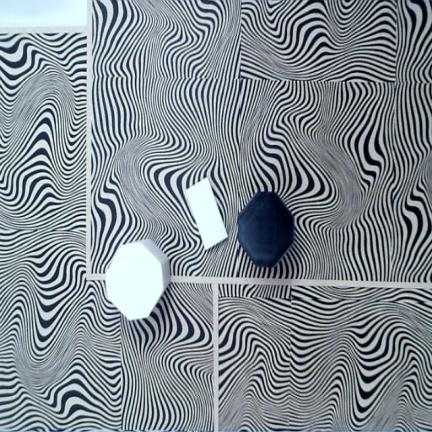Paralelepipedo: (186, 177, 228, 250)
Prisma_hexagonal: (105, 238, 171, 321), (237, 192, 294, 267)
